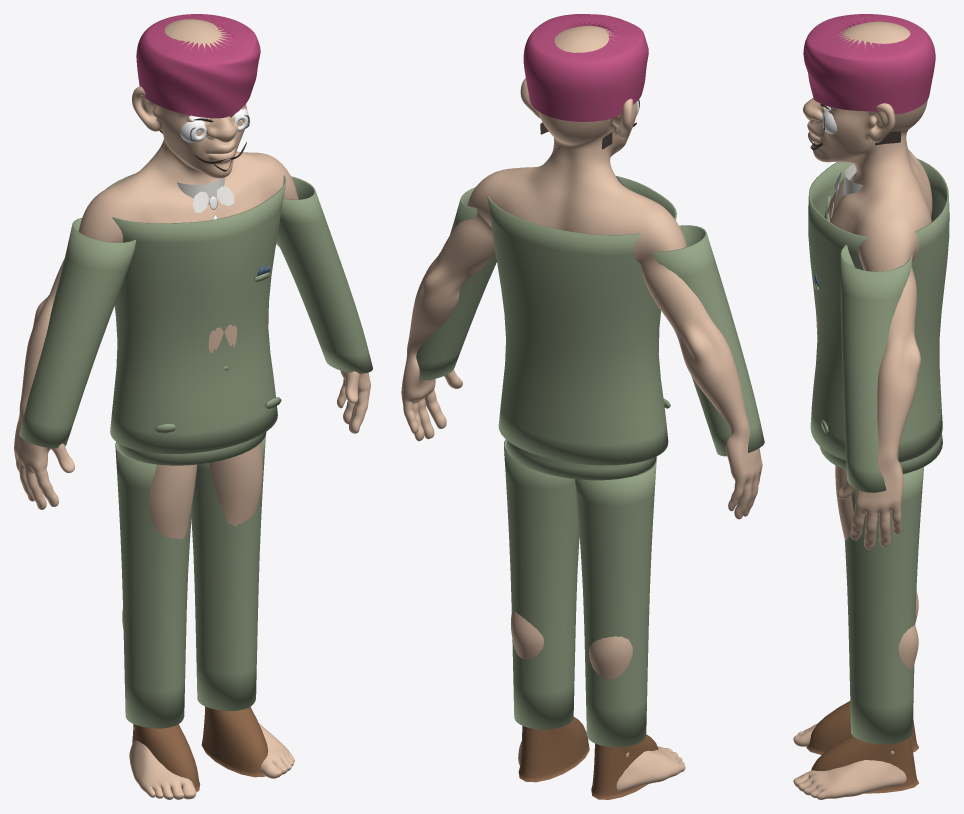
The model's file is professor_torque_final_rigged_basemesh.glb.
The picture shows the model from 3 angles, left to right: view 1: azimuth 30°, elevation 25°; view 2: azimuth 150°, elevation 25°; view 3: azimuth 270°, elevation 25°; orthographic projection.
Parts seen in each view (by area): view 1: Character_Suit_Blazer, GEO-body_male_stylized, Character_Trousers_Tailored, Character_Turban_PatialaShahi, Character_Shoes_CognacOxford, Character_Shirt_Cream; view 2: Character_Suit_Blazer, GEO-body_male_stylized, Character_Trousers_Tailored, Character_Turban_PatialaShahi, Character_Shoes_CognacOxford; view 3: GEO-body_male_stylized, Character_Suit_Blazer, Character_Trousers_Tailored, Character_Turban_PatialaShahi, Character_Shoes_CognacOxford, Character_Shirt_Cream.
Part boxes in pixels (x1,y1,x2,y2): Character_Suit_Blazer: (19, 174, 372, 453); GEO-body_male_stylized: (14, 19, 370, 799); Character_Trousers_Tailored: (115, 432, 266, 728); Character_Turban_PatialaShahi: (136, 14, 260, 118); Character_Shoes_CognacOxford: (132, 706, 267, 791); Character_Shirt_Cream: (177, 177, 234, 218); Character_Suit_Blazer: (416, 175, 764, 465); GEO-body_male_stylized: (401, 25, 762, 790); Character_Trousers_Tailored: (504, 439, 656, 747); Character_Turban_PatialaShahi: (523, 14, 648, 121); Character_Shoes_CognacOxford: (518, 717, 658, 799); GEO-body_male_stylized: (793, 21, 932, 799); Character_Suit_Blazer: (808, 158, 949, 492); Character_Trousers_Tailored: (819, 433, 942, 744); Character_Turban_PatialaShahi: (803, 14, 935, 113); Character_Shoes_CognacOxford: (806, 701, 918, 793); Character_Shirt_Cream: (829, 164, 862, 214).
Bounding box in the file's own units: 0.9274 × 1.88 × 0.3597.
